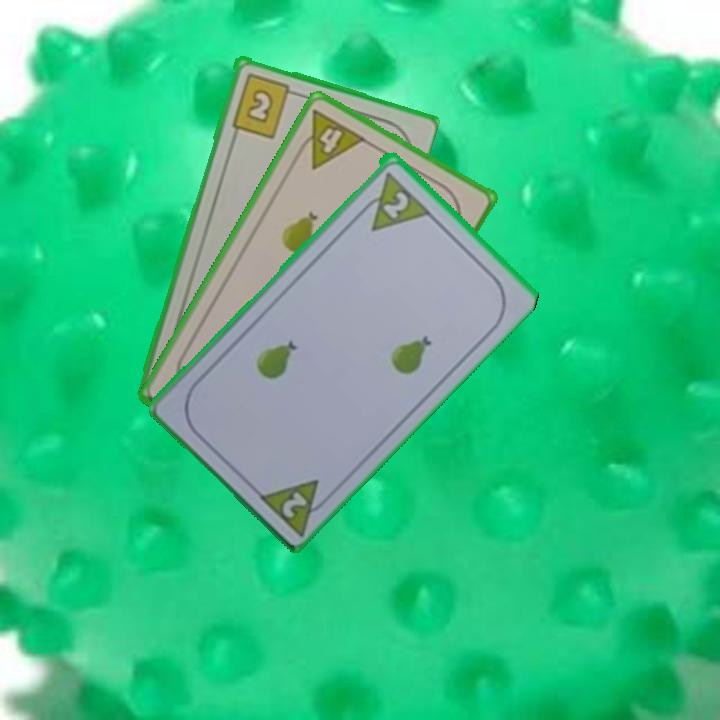2b: (227, 69, 301, 141)
2p: (379, 187, 412, 221), (278, 487, 311, 521)
4p: (290, 105, 369, 172)
